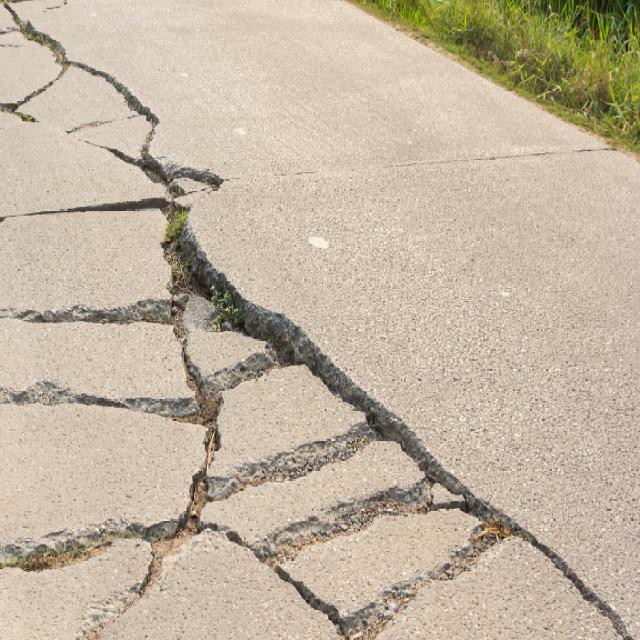Drain Hole: (10, 22, 620, 640)
